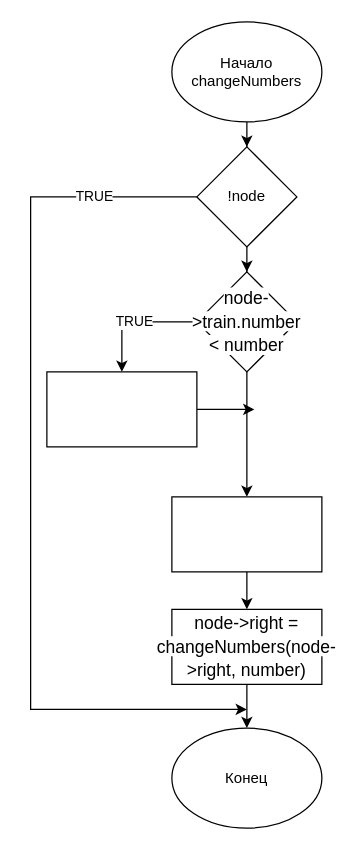
This 358x850 diagram has some shape labels left out. Here are the shapes that lost their labels. From the top down, the box of each, then its label:
(46, 371, 197, 447): node->train.number = number
(171, 496, 322, 572): node->left = changeNumbers(node->left, number)
